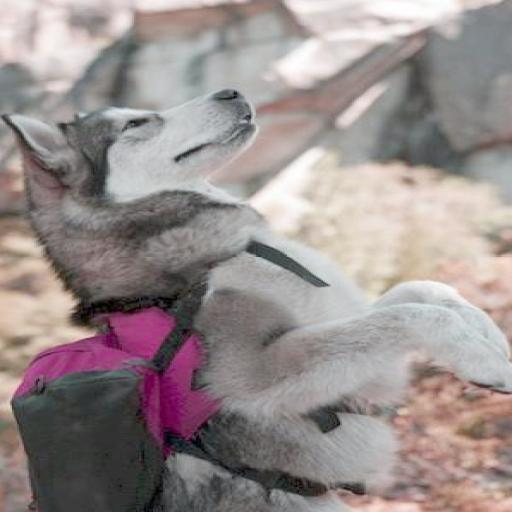dog_face: (0, 92, 297, 206)
